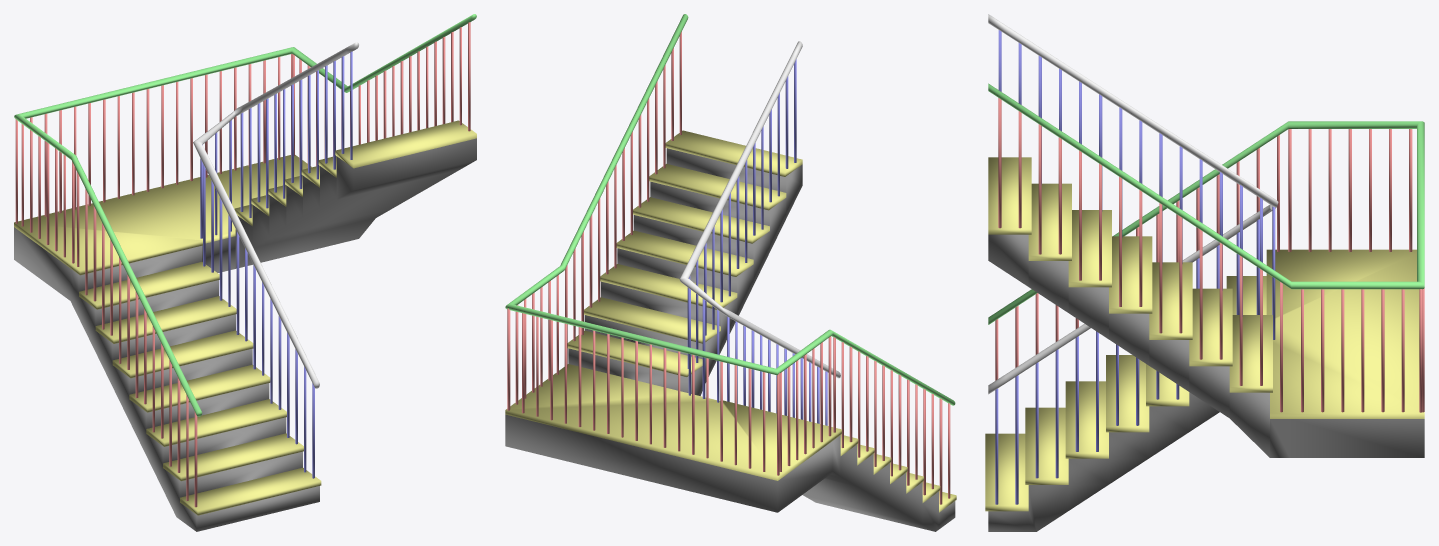
Rendered from stairmesh.fbx.
The picture shows the model from 3 angles, left to right: view 1: azimuth 30°, elevation 25°; view 2: azimuth 150°, elevation 25°; view 3: azimuth 270°, elevation 25°; orthographic projection. The views are drawn at different scales.
Visible parts, largest first — view 1: stairmesh; view 2: stairmesh; view 3: stairmesh.
Part boxes in pixels (x1,y1,x2,y2): stairmesh: [14, 14, 476, 531]; stairmesh: [505, 14, 956, 531]; stairmesh: [985, 14, 1424, 531].
Bounding box in the file's own units: 375 × 577 × 426.
